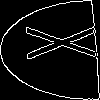X: (25, 25, 100, 60)
